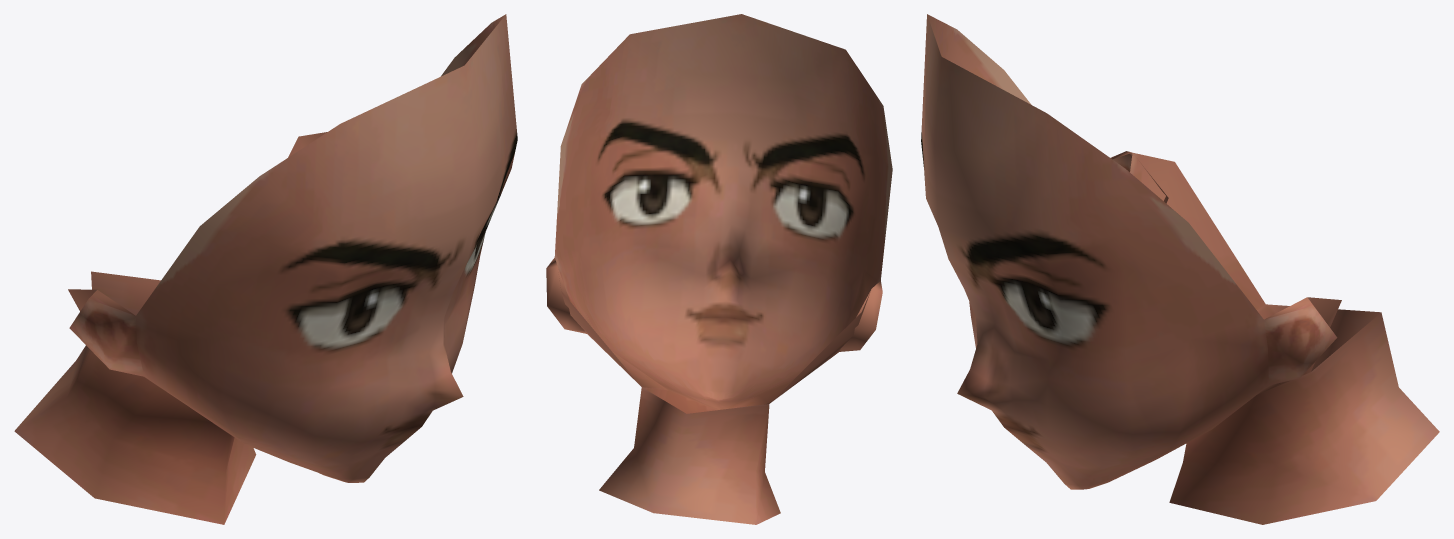
Rendered from MFace_1.glb.
The picture shows the model from 3 angles, left to right: view 1: azimuth 30°, elevation 25°; view 2: azimuth 150°, elevation 25°; view 3: azimuth 270°, elevation 25°; orthographic projection. The views are drawn at different scales.
Parts seen in each view (by area): view 1: #BFACE.002; view 2: #BFACE.002; view 3: #BFACE.002.
Boxes of the visible parts, x1,y1,x2,y2 form: #BFACE.002: [14, 14, 517, 524]; #BFACE.002: [546, 14, 892, 524]; #BFACE.002: [921, 14, 1439, 524].
Bounding box in the file's own units: 0.0246 × 0.0296 × 0.0276.
1 material, 1 textured.
